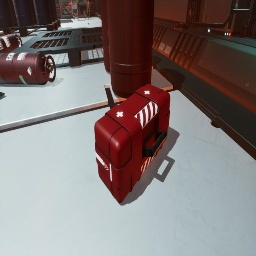FirstAidBox ,: (94, 84, 170, 203)
NitrogenTank ,: (0, 52, 56, 85), (0, 34, 22, 53)
